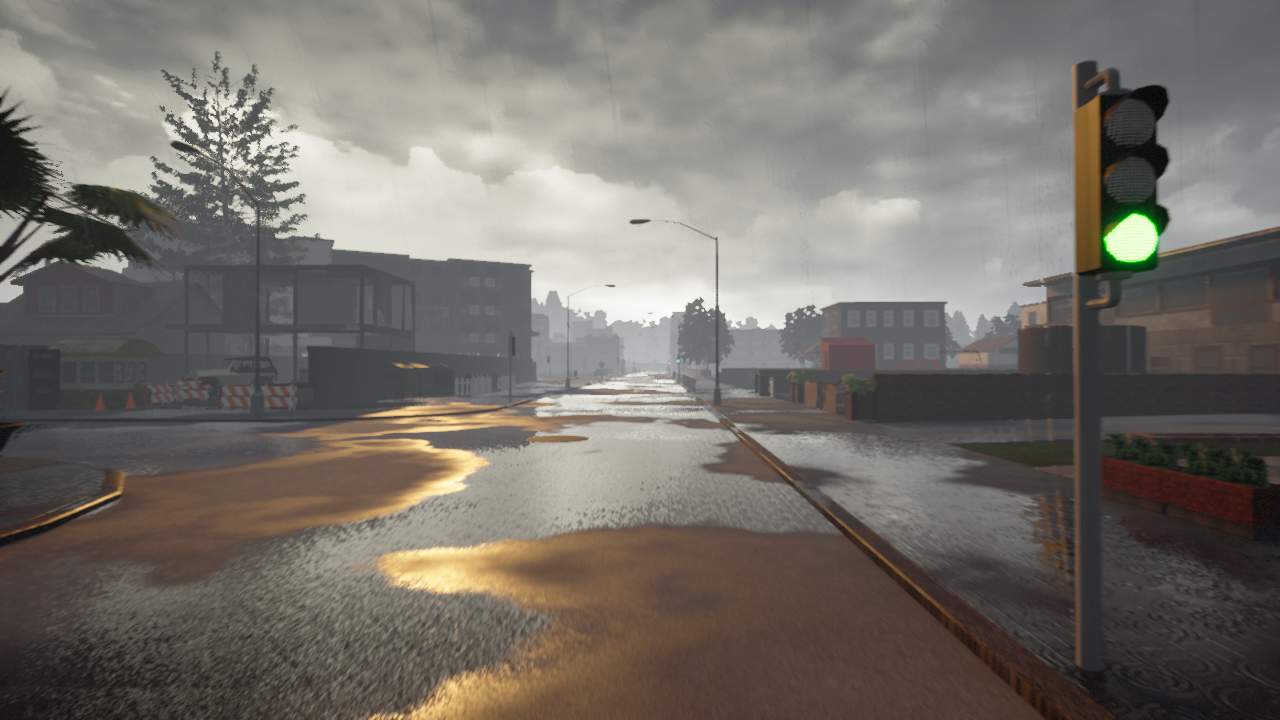green: (1077, 80, 1166, 278)
